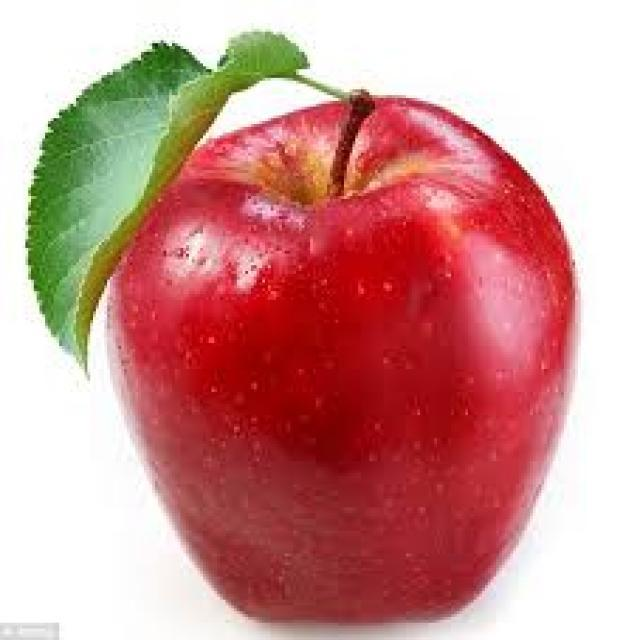Organik: (28, 28, 587, 620)
